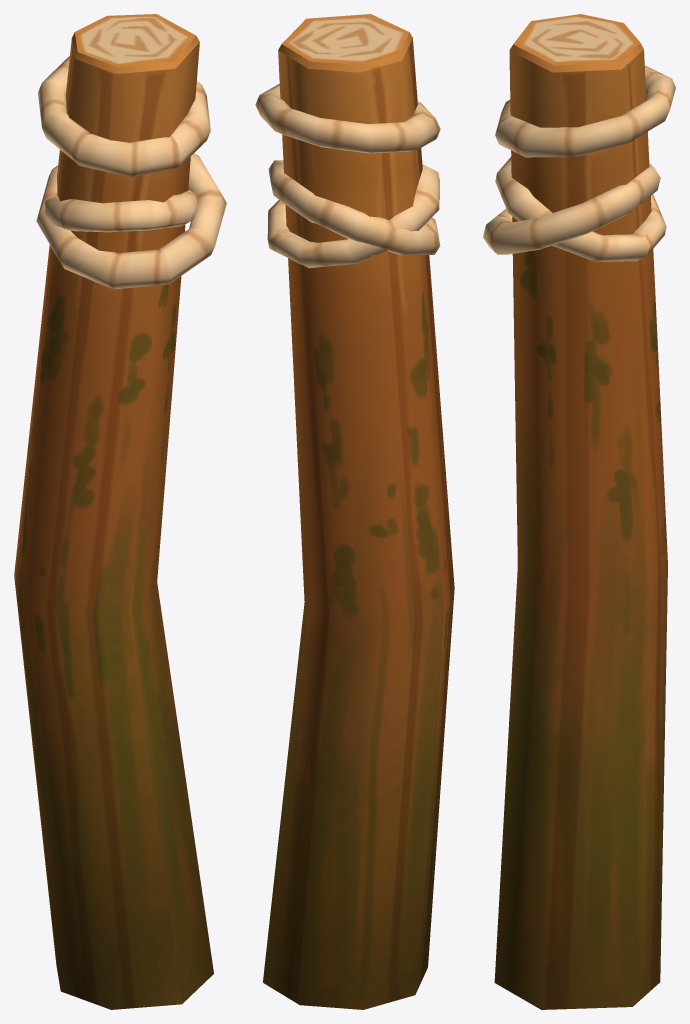
The model's file is port_post4.fbx.
3 views of the same model, side by side, from view 1: azimuth 30°, elevation 25°; view 2: azimuth 150°, elevation 25°; view 3: azimuth 270°, elevation 25° (orthographic).
Visible parts, largest first — view 1: Poste4; view 2: Poste4; view 3: Poste4.
Part boxes in pixels (box(x1,y1,x2,y2)): Poste4: box(14, 14, 226, 1009); Poste4: box(255, 14, 454, 1009); Poste4: box(483, 14, 675, 1009).
Bounding box in the file's own units: 463 × 2309 × 430.
